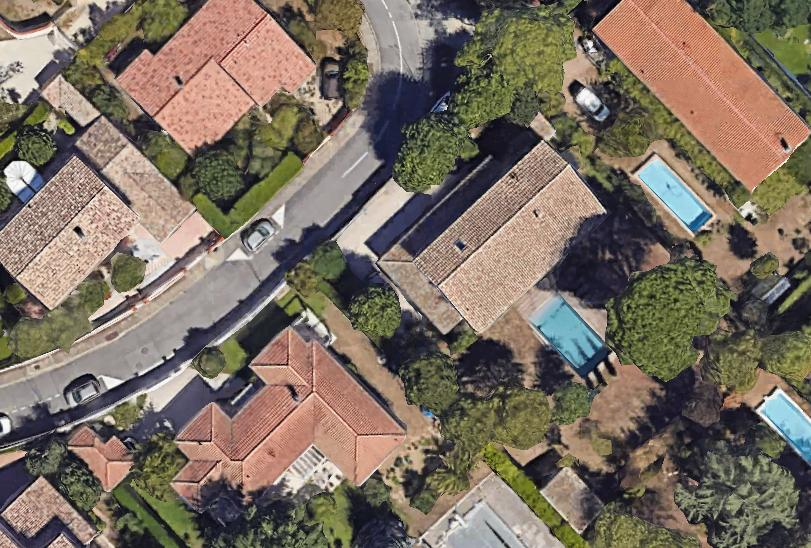maison: (149, 318, 411, 548), (375, 119, 613, 353), (0, 115, 197, 337), (590, 0, 811, 193), (113, 0, 319, 174), (0, 477, 97, 547)
